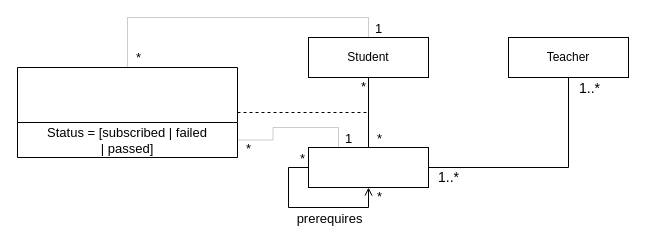
Image size: 646x243. Some labels were removed from this diagram. Each missing label, with the box of its shape:
Modul: (308, 146, 428, 188)
Modul Subscription: (16, 66, 238, 158)
